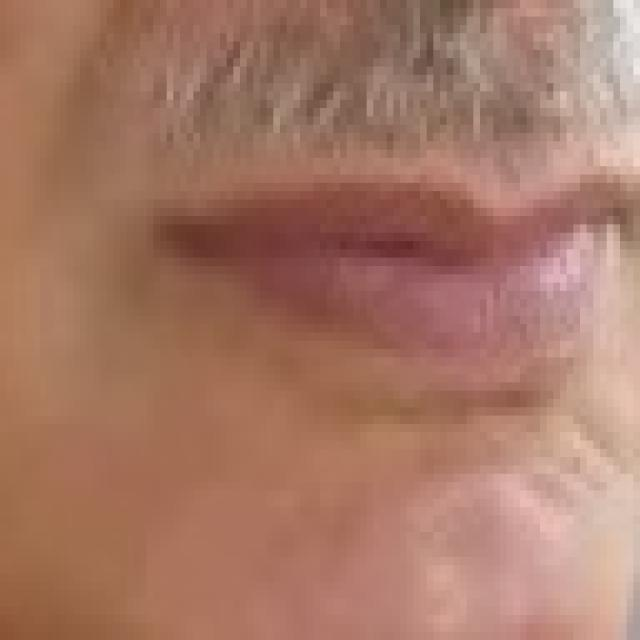closed-mouth: (140, 133, 634, 391)
